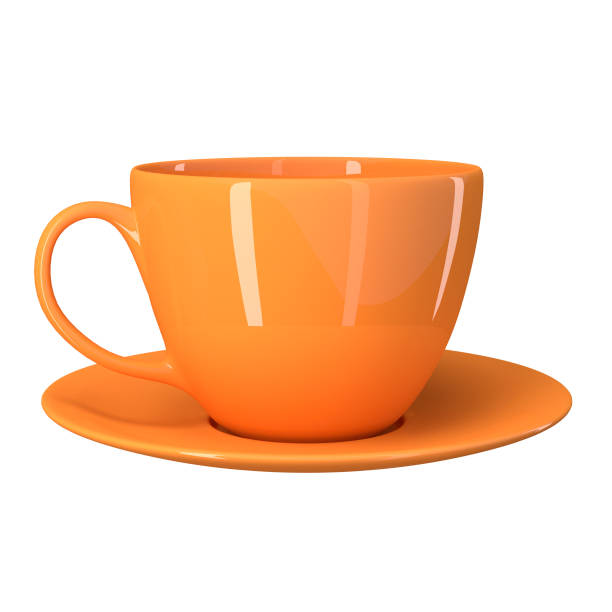cup: (31, 146, 587, 477)
